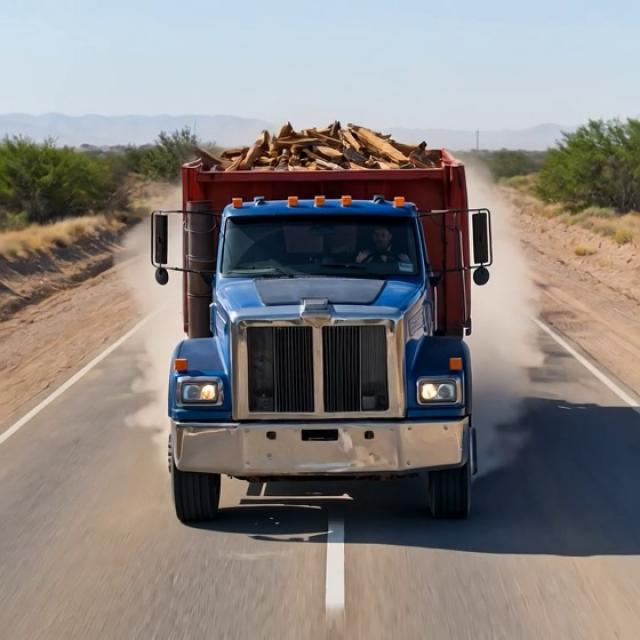trailer: (174, 117, 464, 182)
truck: (146, 114, 496, 528)
